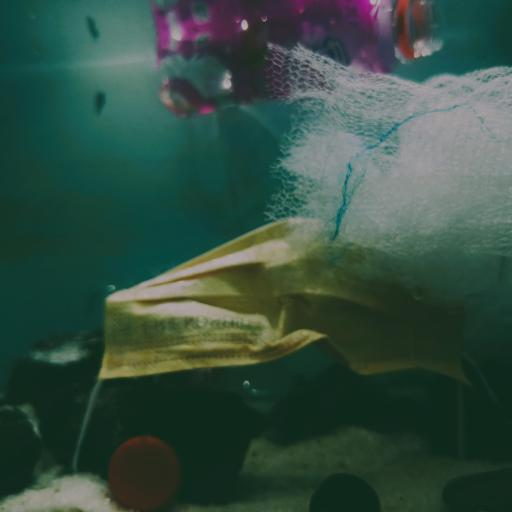bottle_cap: (108, 436, 182, 509), (308, 472, 380, 512)
mask: (86, 220, 472, 424)
net: (259, 38, 512, 312)
plastic_bottle: (152, 29, 448, 119)
